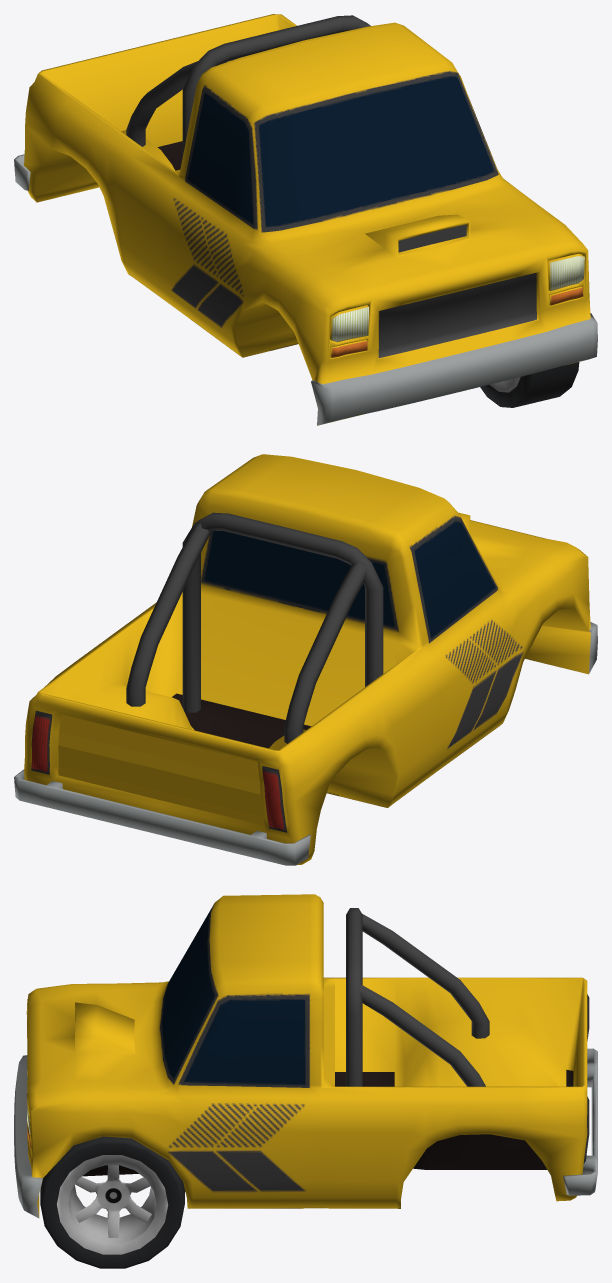
File: TruckV1.fbx
3 renders of one model, top to bottom at view 1: azimuth 30°, elevation 25°; view 2: azimuth 150°, elevation 25°; view 3: azimuth 270°, elevation 25°, orthographic. The views are drawn at different scales.
Visible parts, largest first — view 1: Jaula, cubierta; view 2: Jaula; view 3: Jaula, cubierta.
Boxes of the visible parts, box(x1,y1,x2,y2) form: Jaula: box(14, 14, 597, 425); cubierta: box(480, 362, 579, 407); Jaula: box(14, 454, 597, 865); Jaula: box(14, 894, 597, 1218); cubierta: box(40, 1136, 185, 1268).
Size of the model in its own units: 132 by 134 by 253.
1 material, 1 textured.
